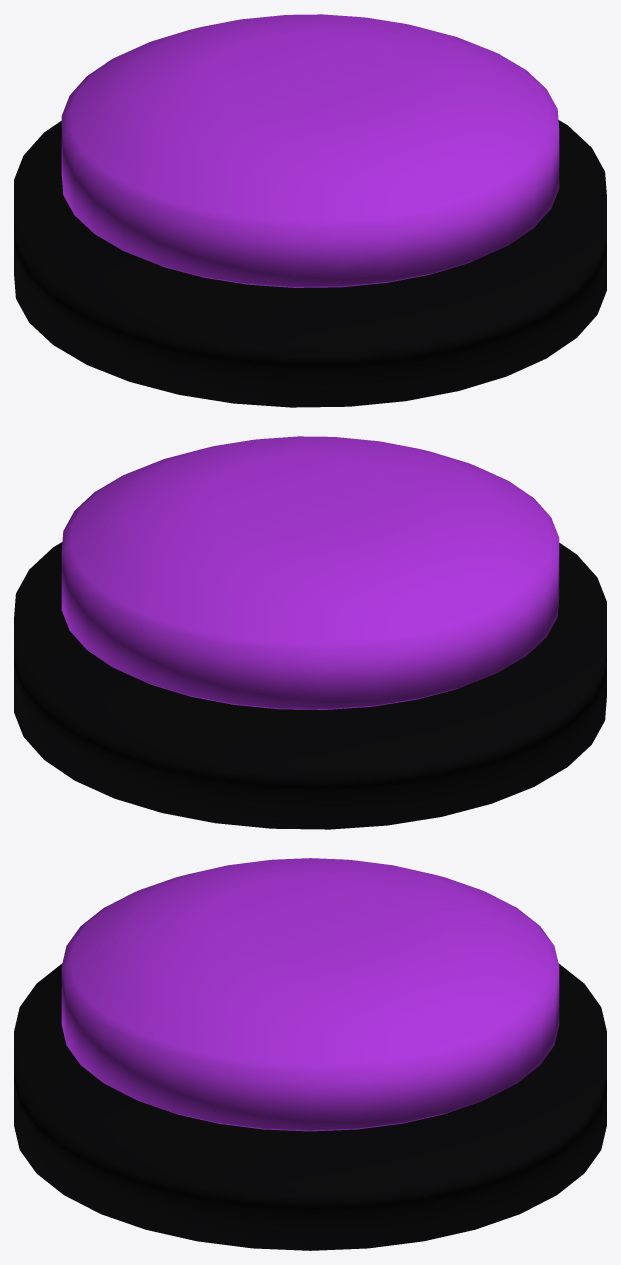
The model's file is button.fbx.
3 renders of one model, top to bottom at view 1: azimuth 30°, elevation 25°; view 2: azimuth 150°, elevation 25°; view 3: azimuth 270°, elevation 25°, orthographic.
Parts seen in each view (by area): view 1: Cylinder.001, Cylinder; view 2: Cylinder.001, Cylinder; view 3: Cylinder.001, Cylinder.
Part boxes in pixels (<box>): Cylinder.001: <box>61,14,559,287</box>; Cylinder: <box>14,120,606,407</box>; Cylinder.001: <box>61,436,559,709</box>; Cylinder: <box>14,542,606,829</box>; Cylinder.001: <box>61,858,559,1131</box>; Cylinder: <box>14,963,606,1250</box>.
Size of the model in its own units: 200 by 76.33 by 200.
